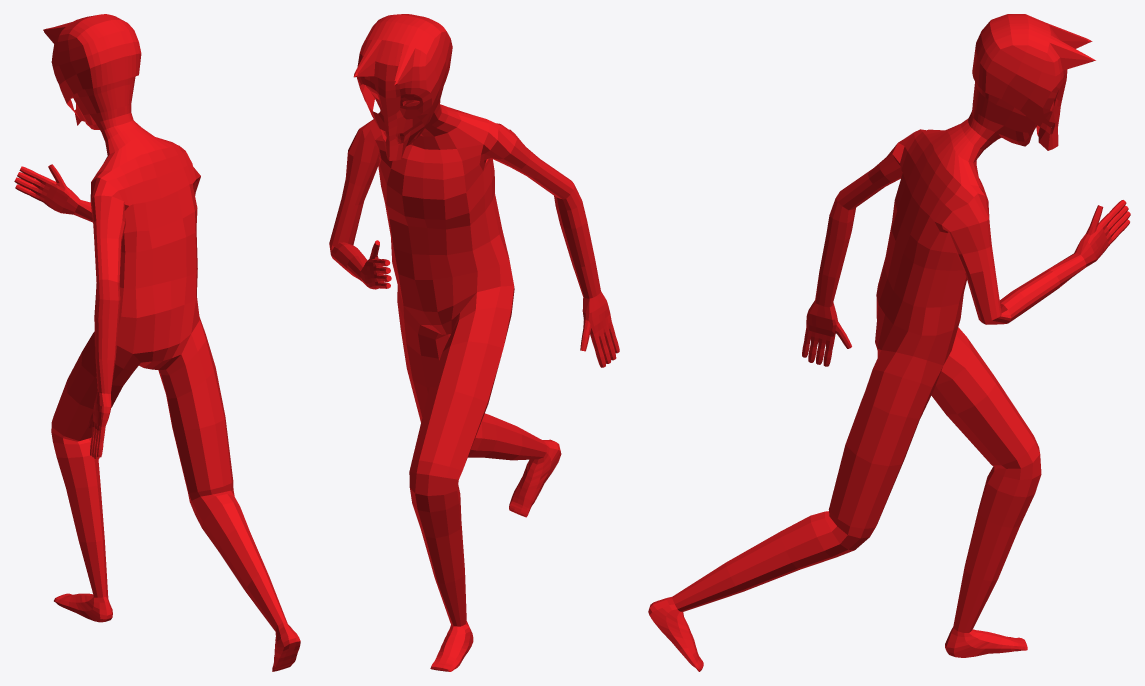
The model's file is marchaE_000044.obj.
3 views of the same model, side by side, from view 1: azimuth 30°, elevation 25°; view 2: azimuth 150°, elevation 25°; view 3: azimuth 270°, elevation 25° (orthographic). The views are drawn at different scales.
Parts seen in each view (by area): view 1: Plane.002_Plane.001; view 2: Plane.002_Plane.001; view 3: Plane.002_Plane.001.
Part boxes in pixels (<box>): Plane.002_Plane.001: <box>14,14,300,671</box>; Plane.002_Plane.001: <box>329,14,619,671</box>; Plane.002_Plane.001: <box>648,14,1130,671</box>.
Bounding box in the file's own units: 2.06 × 6.46 × 4.36.
